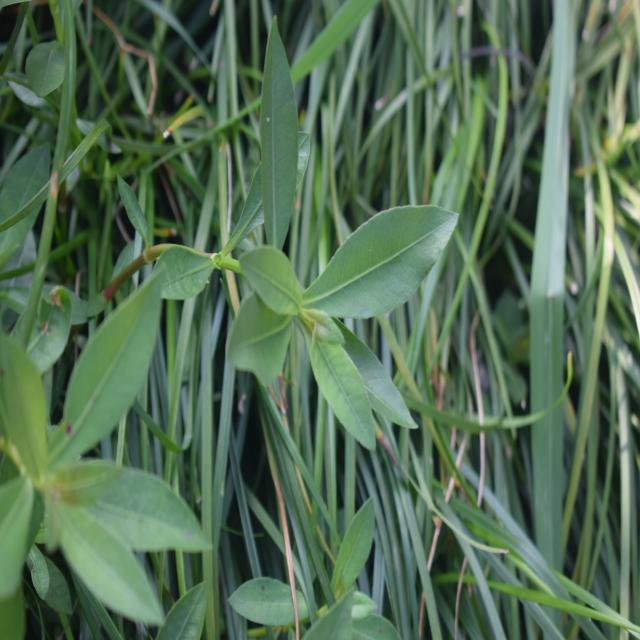Alligatorweed: (217, 50, 438, 466)
